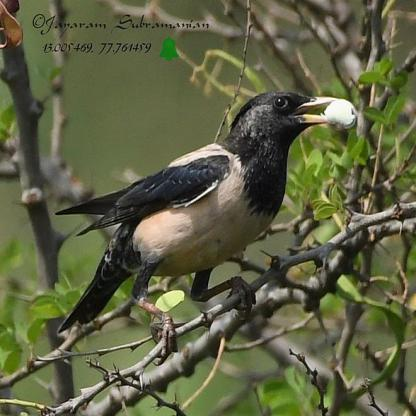Burung: (65, 90, 358, 341)
